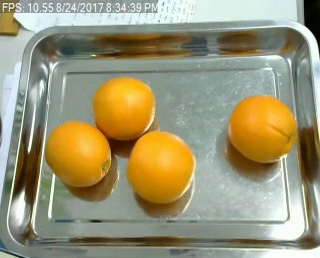Orange: (225, 92, 296, 164), (126, 130, 195, 204), (44, 119, 112, 185), (91, 77, 154, 140)
